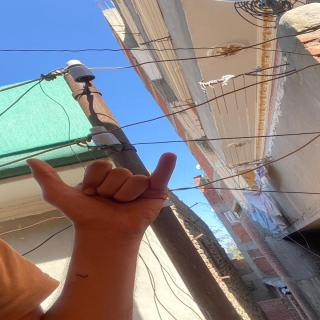YA: (18, 145, 182, 222)
